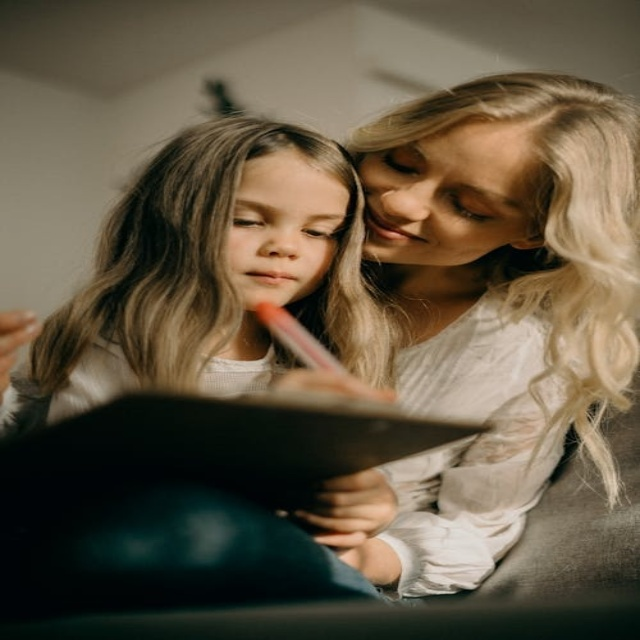Sin_gafas: (378, 133, 524, 226), (229, 197, 335, 243)
Sin_guantes: (284, 465, 402, 542)
Sin_mascara: (358, 190, 463, 265), (225, 258, 315, 304)
